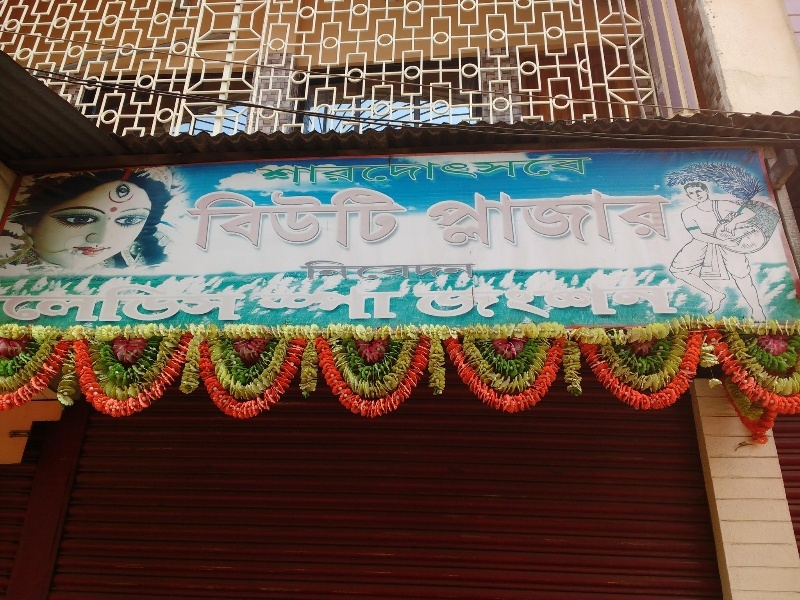text: (193, 187, 208, 252), (209, 187, 224, 252), (225, 187, 240, 252), (241, 187, 256, 252), (257, 187, 272, 252), (273, 187, 288, 252), (289, 187, 304, 252), (305, 187, 320, 252), (321, 187, 336, 252), (337, 187, 352, 252), (353, 187, 368, 252), (369, 187, 384, 252), (385, 187, 400, 252), (433, 187, 448, 249), (449, 187, 464, 249), (465, 187, 480, 249), (481, 187, 496, 249), (497, 187, 512, 249), (513, 187, 528, 249), (529, 187, 544, 249), (545, 187, 560, 249), (561, 187, 576, 249), (577, 187, 592, 249), (593, 187, 608, 249), (609, 187, 624, 249), (625, 187, 640, 249), (641, 187, 656, 249), (657, 187, 672, 249), (1, 283, 16, 324), (17, 283, 32, 324), (33, 283, 48, 324), (49, 283, 64, 324), (65, 283, 80, 324), (81, 283, 96, 324), (97, 283, 112, 324), (113, 283, 128, 324), (129, 283, 144, 324), (145, 283, 160, 324), (161, 283, 176, 324), (177, 283, 192, 324), (193, 283, 208, 324), (209, 283, 224, 324), (225, 283, 240, 324), (417, 280, 432, 318), (433, 280, 448, 318), (449, 280, 464, 318), (465, 280, 480, 318), (481, 280, 496, 318), (497, 280, 512, 318), (513, 280, 528, 318), (529, 280, 544, 318), (545, 280, 560, 318), (561, 280, 576, 318), (577, 280, 592, 318), (593, 280, 608, 318), (609, 280, 624, 318), (625, 280, 640, 318), (641, 280, 656, 318), (657, 280, 672, 318), (673, 280, 688, 318), (257, 285, 272, 321), (273, 285, 288, 321), (289, 285, 304, 321), (305, 285, 320, 321), (321, 285, 336, 321), (337, 285, 352, 321), (353, 285, 368, 321), (369, 285, 384, 321), (385, 285, 400, 321), (577, 154, 593, 187), (257, 154, 272, 187), (273, 154, 288, 187), (289, 154, 304, 187), (305, 154, 320, 187), (321, 154, 336, 187), (337, 154, 352, 187), (353, 154, 368, 187), (369, 154, 384, 187), (385, 154, 400, 187), (401, 154, 416, 187), (417, 154, 432, 187), (433, 154, 448, 187), (449, 154, 464, 187), (465, 154, 480, 187), (481, 154, 496, 187), (497, 154, 512, 187), (513, 154, 528, 187), (529, 154, 544, 187), (545, 154, 560, 187), (561, 154, 576, 187), (401, 187, 408, 252), (186, 187, 192, 252), (407, 280, 416, 318), (241, 283, 249, 324), (427, 187, 432, 249), (305, 260, 320, 280), (321, 260, 336, 280), (337, 260, 352, 280), (353, 260, 368, 280), (369, 260, 384, 280), (385, 260, 400, 280), (401, 260, 416, 280), (417, 260, 432, 280), (433, 260, 448, 280), (449, 260, 464, 280), (248, 285, 256, 321), (673, 187, 677, 249), (465, 260, 477, 280), (401, 285, 406, 321), (689, 280, 693, 318), (298, 260, 304, 280), (255, 154, 256, 187)
